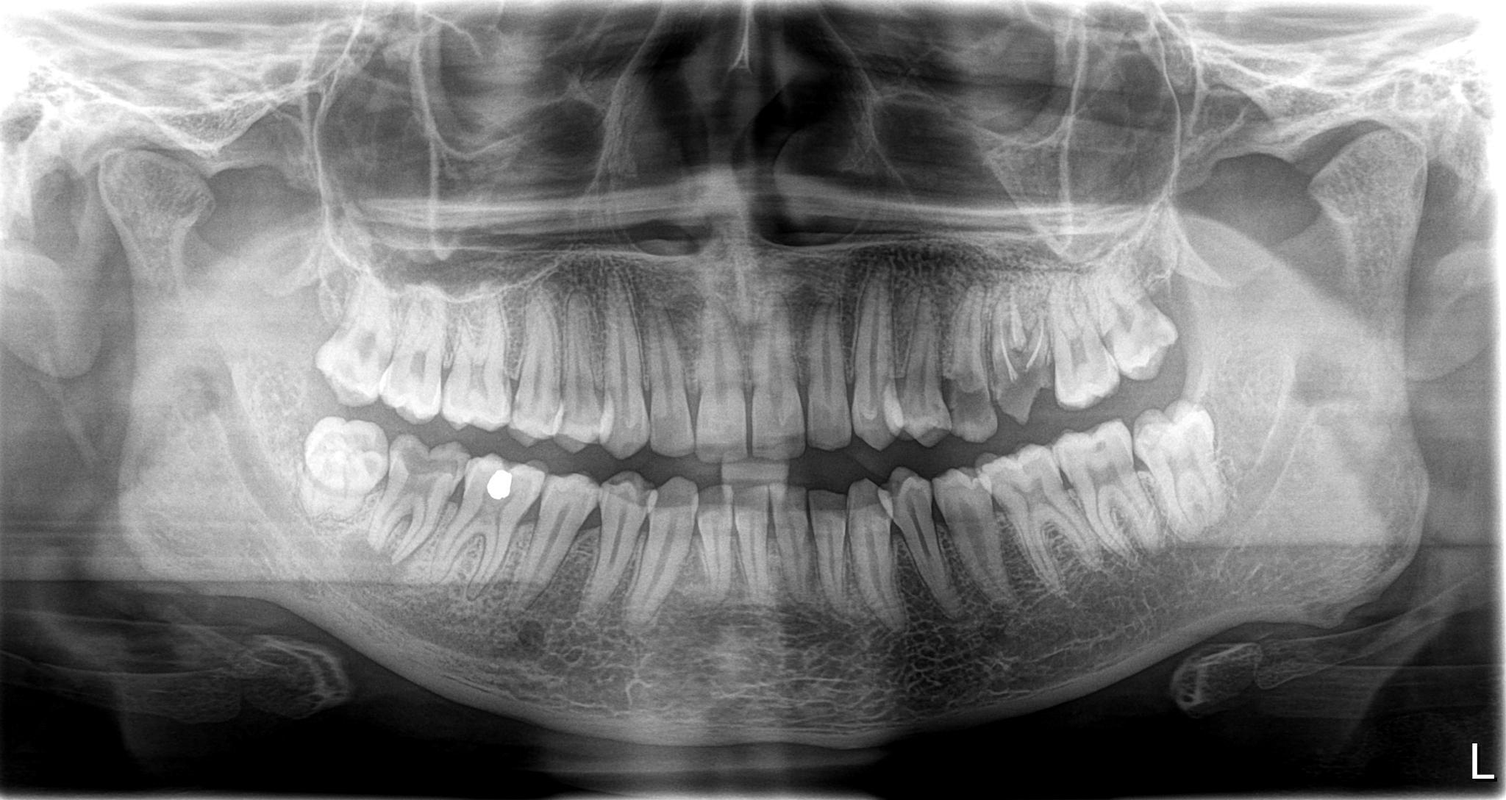Impacted Third Molar: (305, 423, 386, 506)
